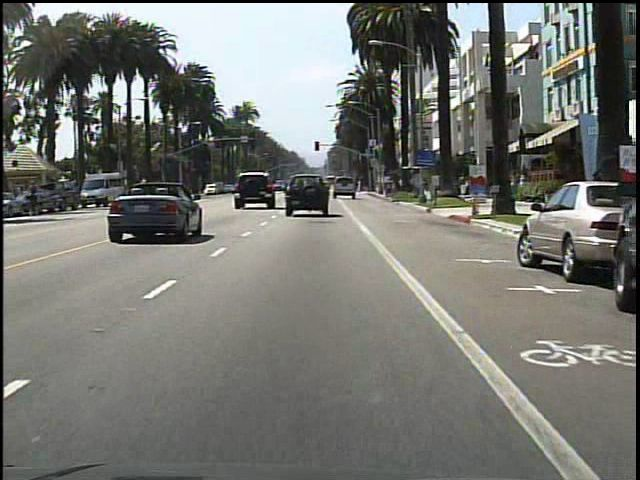person: (29, 177, 45, 218)
